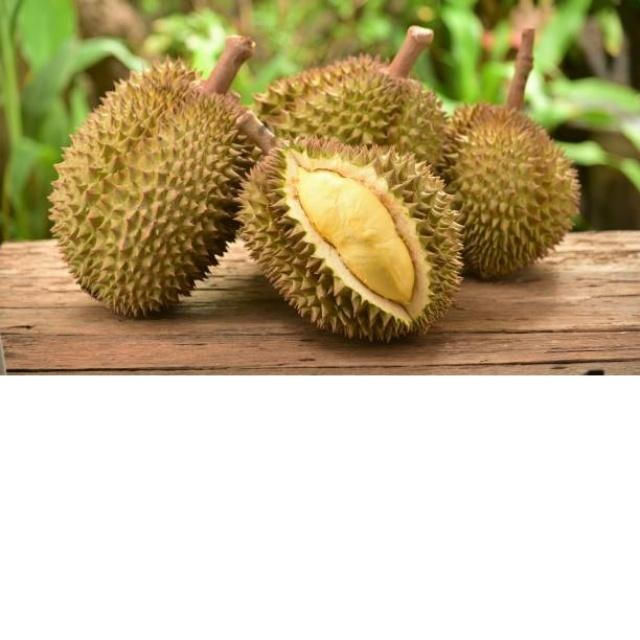sau_rieng: (45, 49, 258, 319), (238, 125, 478, 364), (445, 85, 629, 294)
